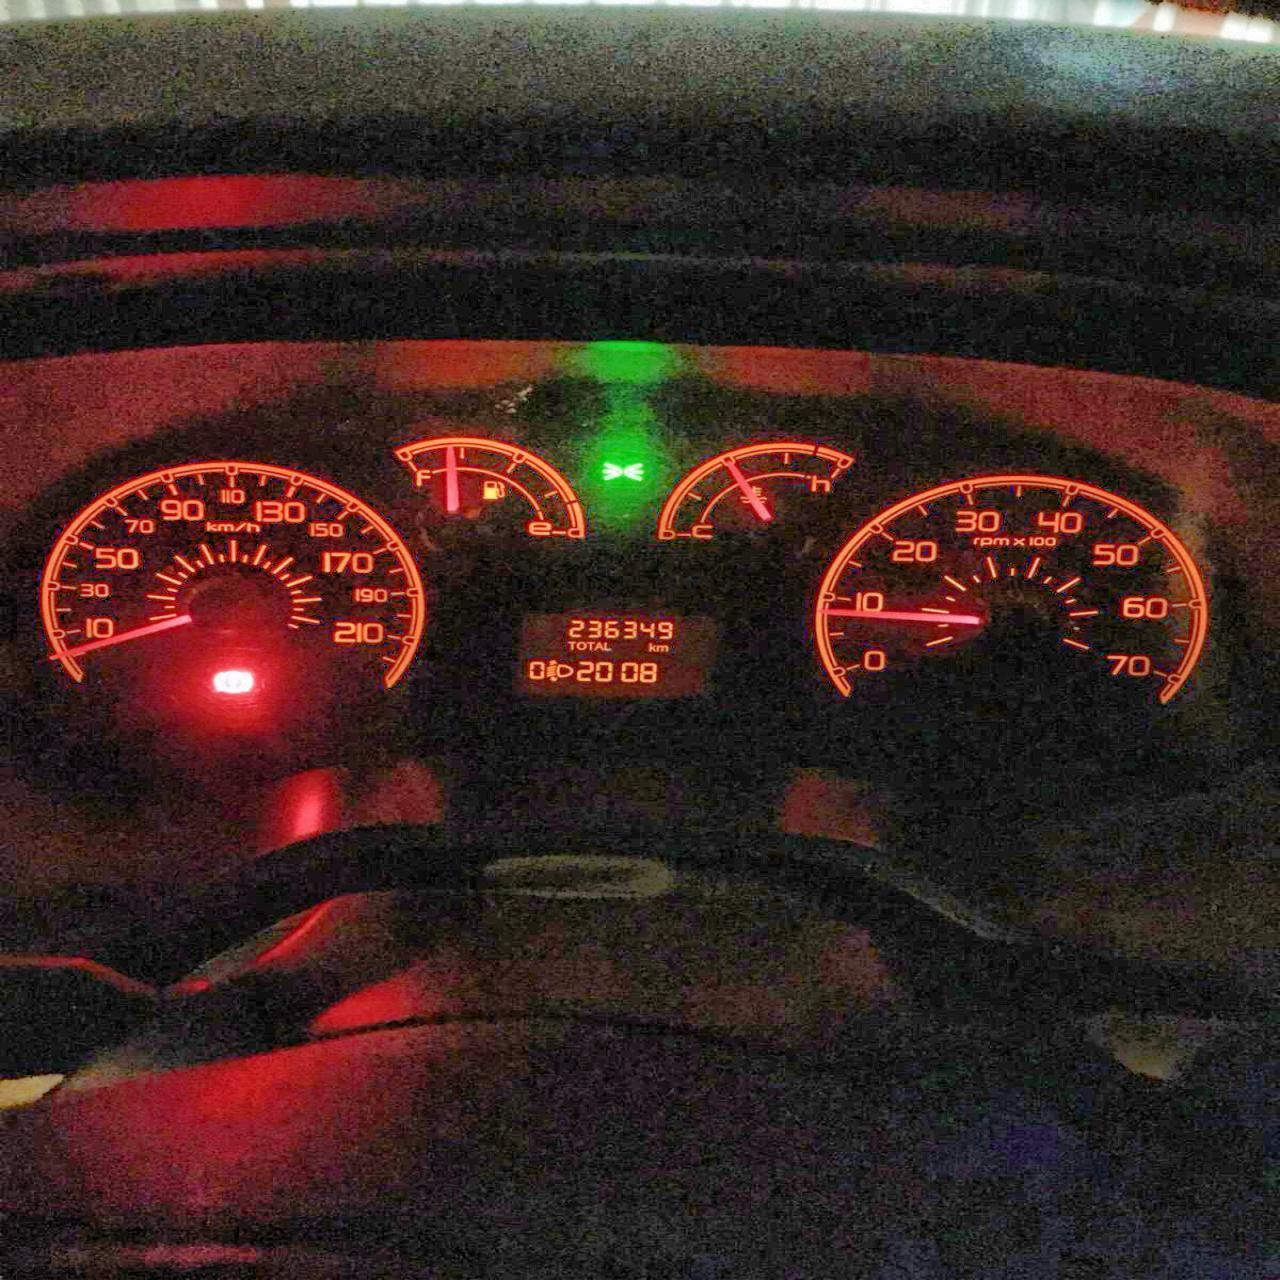0: (620, 660, 638, 682), (595, 660, 612, 682), (527, 660, 544, 679)
2: (573, 660, 594, 682), (566, 618, 584, 638)
3: (622, 620, 636, 639), (587, 619, 600, 638)
4: (639, 620, 654, 638)
6: (604, 620, 619, 639)
8: (639, 661, 658, 682)
9: (658, 621, 672, 640)
X: (656, 644, 669, 651), (586, 640, 595, 649), (566, 640, 576, 649), (577, 641, 586, 651), (594, 640, 602, 651), (602, 641, 611, 652), (647, 641, 655, 652)
odometer: (501, 604, 694, 700)
